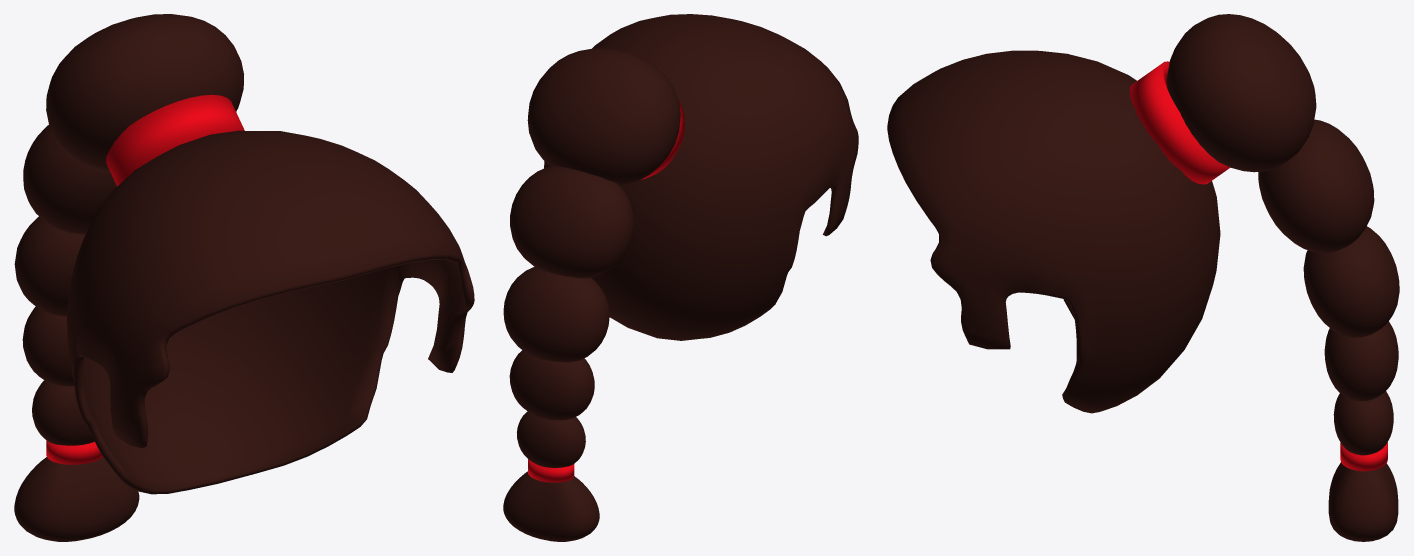
File: ponytail.fbx
The picture shows the model from 3 angles, left to right: view 1: azimuth 30°, elevation 25°; view 2: azimuth 150°, elevation 25°; view 3: azimuth 270°, elevation 25°; orthographic projection. The views are drawn at different scales.
Parts seen in each view (by area): view 1: BALD BESSER.001, Cube.042, Cube.065, Cube.061, Cylinder, Cube.062, Cube.063, Cube.064, Cylinder.001; view 2: BALD BESSER.001, Cube.042, Cube.061, Cube.062, Cube.065, Cube.063, Cube.064, Cylinder.001, Cylinder; view 3: BALD BESSER.001, Cube.042, Cube.061, Cube.062, Cylinder, Cube.065, Cube.063, Cube.064, Cylinder.001.
Part boxes in pixels (<box>): BALD BESSER.001: <box>67,130,474,494</box>; Cube.042: <box>46,14,243,169</box>; Cube.065: <box>14,457,139,541</box>; Cube.061: <box>23,124,116,234</box>; Cylinder: <box>106,94,244,186</box>; Cube.062: <box>14,216,85,316</box>; Cube.063: <box>22,306,74,386</box>; Cube.064: <box>32,380,94,445</box>; Cylinder.001: <box>46,440,102,464</box>; BALD BESSER.001: <box>544,14,858,340</box>; Cube.042: <box>527,48,680,185</box>; Cube.061: <box>510,166,633,278</box>; Cube.062: <box>503,267,609,362</box>; Cube.065: <box>503,471,599,541</box>; Cube.063: <box>509,350,594,420</box>; Cube.064: <box>517,411,585,467</box>; Cylinder.001: <box>528,459,574,482</box>; Cylinder: <box>641,100,684,179</box>; BALD BESSER.001: <box>887,50,1220,413</box>; Cube.042: <box>1166,14,1316,172</box>; Cube.061: <box>1258,119,1374,252</box>; Cube.062: <box>1303,226,1399,337</box>; Cylinder: <box>1130,61,1230,184</box>; Cube.065: <box>1328,462,1398,541</box>; Cube.063: <box>1324,321,1398,401</box>; Cube.064: <box>1333,391,1393,455</box>; Cylinder.001: <box>1340,442,1387,471</box>.
Size of the model in its own units: 119 by 189 by 173.
